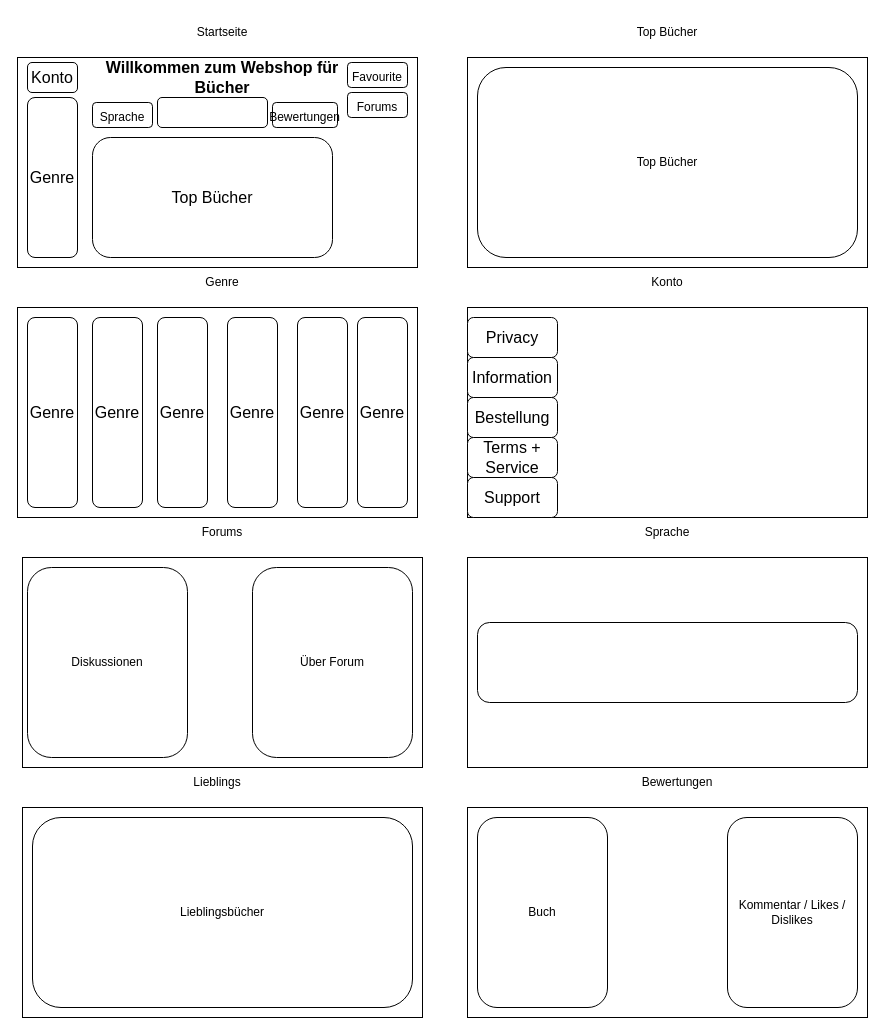
The diagram is 885 pixels wide and 1035 high, and some of its shapes have lost their labels. The centre of each missing label's shape, as x and y in pixels:
"Sprache wechseln" goes at (667,662).
"Suchleiste" goes at (212,112).
